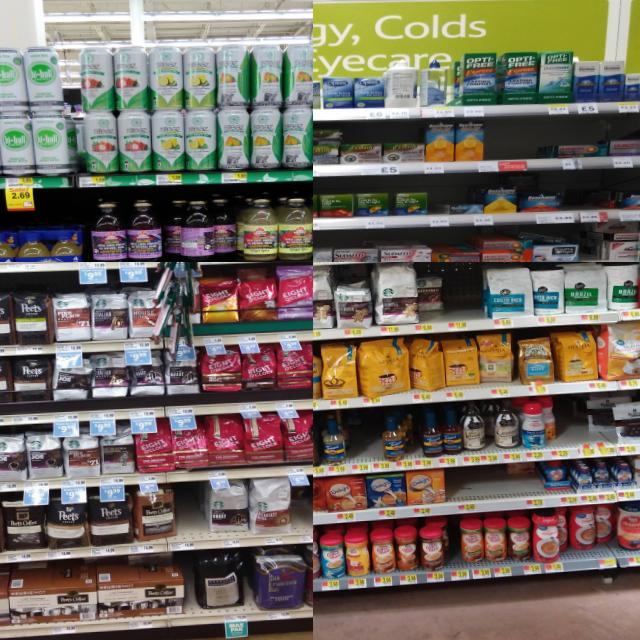100% O.O.S: (443, 262, 483, 330), (446, 466, 506, 511), (555, 394, 585, 458), (174, 482, 203, 548), (350, 427, 382, 472), (291, 485, 313, 542), (509, 474, 540, 508)
100- O.O.S: (486, 118, 536, 170), (564, 175, 596, 222), (428, 180, 448, 227), (577, 224, 595, 262)
